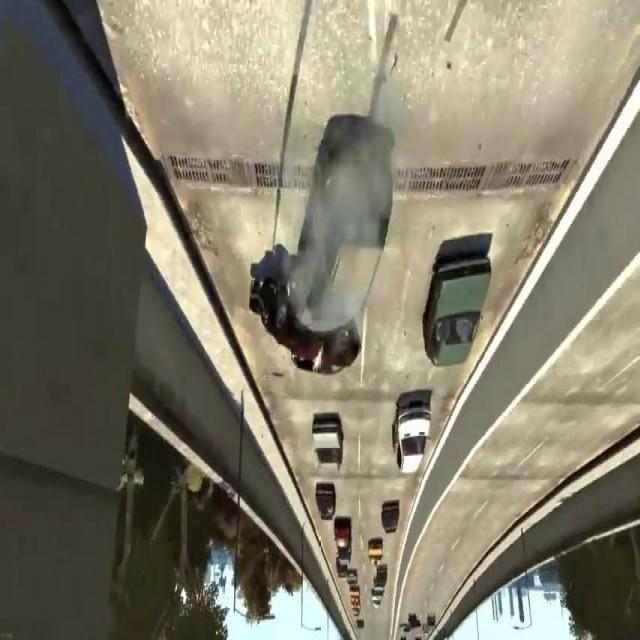severe: (250, 115, 398, 378)
